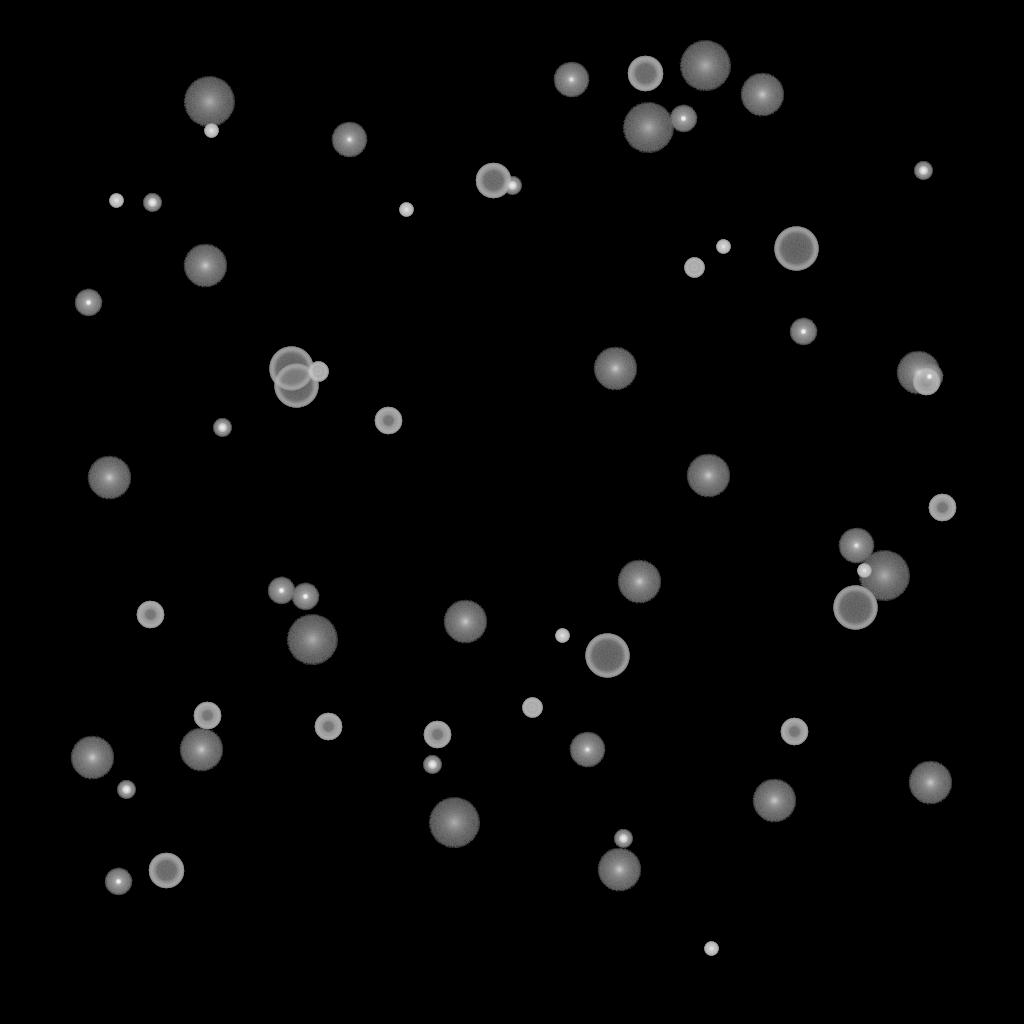depth:-10: (915, 363, 943, 391), (104, 868, 132, 896), (789, 318, 817, 346), (74, 289, 102, 317), (669, 105, 697, 133), (291, 583, 319, 611), (267, 577, 295, 605)
depth:-20: (614, 830, 632, 848), (503, 177, 521, 195), (213, 419, 231, 437), (914, 162, 932, 180), (423, 756, 441, 774), (143, 194, 161, 212), (117, 781, 135, 799)
depth:-30: (109, 194, 123, 208), (857, 564, 871, 578), (399, 203, 413, 217), (716, 240, 730, 254), (555, 629, 569, 643), (204, 124, 218, 138), (704, 942, 718, 956)
depth:-40: (684, 258, 704, 278), (522, 698, 542, 718), (308, 362, 328, 382)
depth:-50: (423, 721, 451, 749), (912, 368, 940, 396), (780, 718, 808, 746), (314, 713, 342, 741), (193, 702, 221, 730), (928, 494, 956, 522), (374, 407, 402, 435), (136, 601, 164, 629)
depth:-60: (475, 163, 511, 199), (148, 853, 184, 889), (627, 56, 663, 92)
depth:-70: (269, 347, 313, 391), (274, 364, 318, 408), (585, 634, 629, 678), (833, 586, 877, 630), (774, 227, 818, 271)
depth:0: (331, 122, 367, 158), (838, 528, 874, 564), (553, 62, 589, 98), (569, 732, 605, 768)
depth:10: (593, 347, 637, 391), (896, 351, 940, 395), (617, 560, 661, 604), (597, 848, 641, 892), (87, 456, 131, 500), (686, 454, 730, 498), (443, 600, 487, 644), (908, 761, 952, 805), (752, 779, 796, 823), (70, 736, 114, 780), (740, 73, 784, 117), (179, 728, 223, 772), (183, 244, 227, 288)
depth:20: (286, 615, 338, 665), (679, 41, 731, 91), (428, 798, 480, 848), (183, 77, 235, 127), (622, 103, 674, 153), (858, 551, 910, 601)
